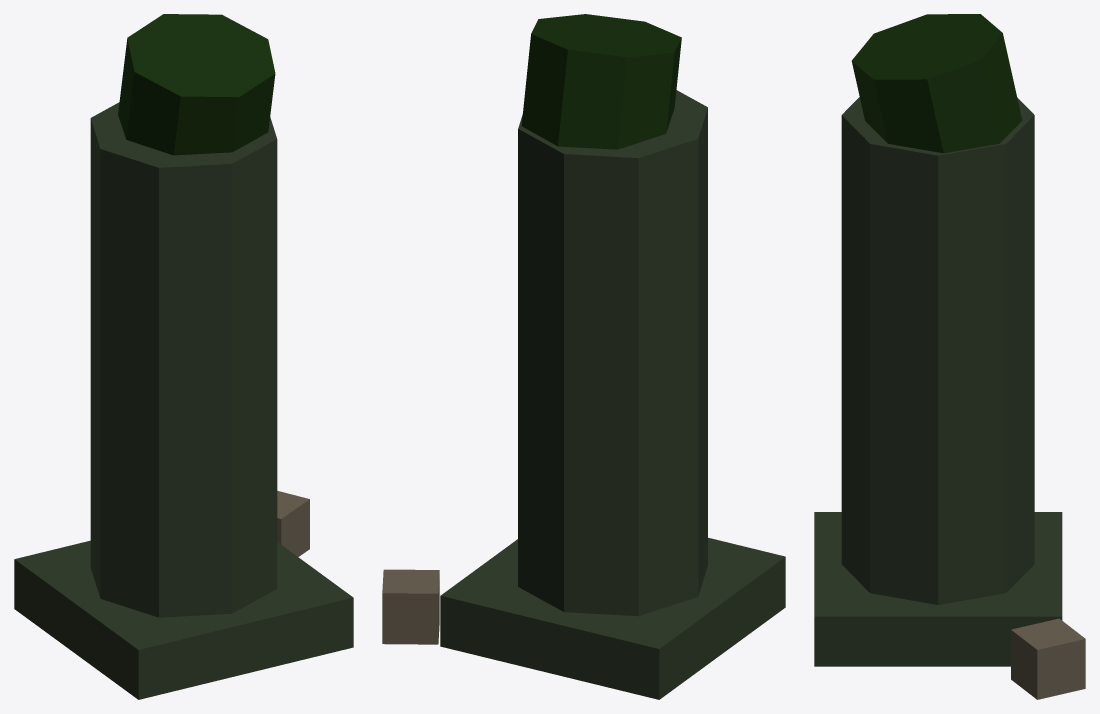
Rendered from ruined_pillar.obj.
3 renders of one model, left to right at view 1: azimuth 30°, elevation 25°; view 2: azimuth 150°, elevation 25°; view 3: azimuth 270°, elevation 25°, orthographic.
Parts seen in each view (by area): view 1: ruined_pillar; view 2: ruined_pillar; view 3: ruined_pillar.
Part boxes in pixels (box(x1,y1,x2,y2)): ruined_pillar: box(14, 14, 353, 699); ruined_pillar: box(382, 14, 785, 699); ruined_pillar: box(814, 14, 1085, 699).
Bounding box in the file's own units: 1.19 × 2.35 × 0.9857.
